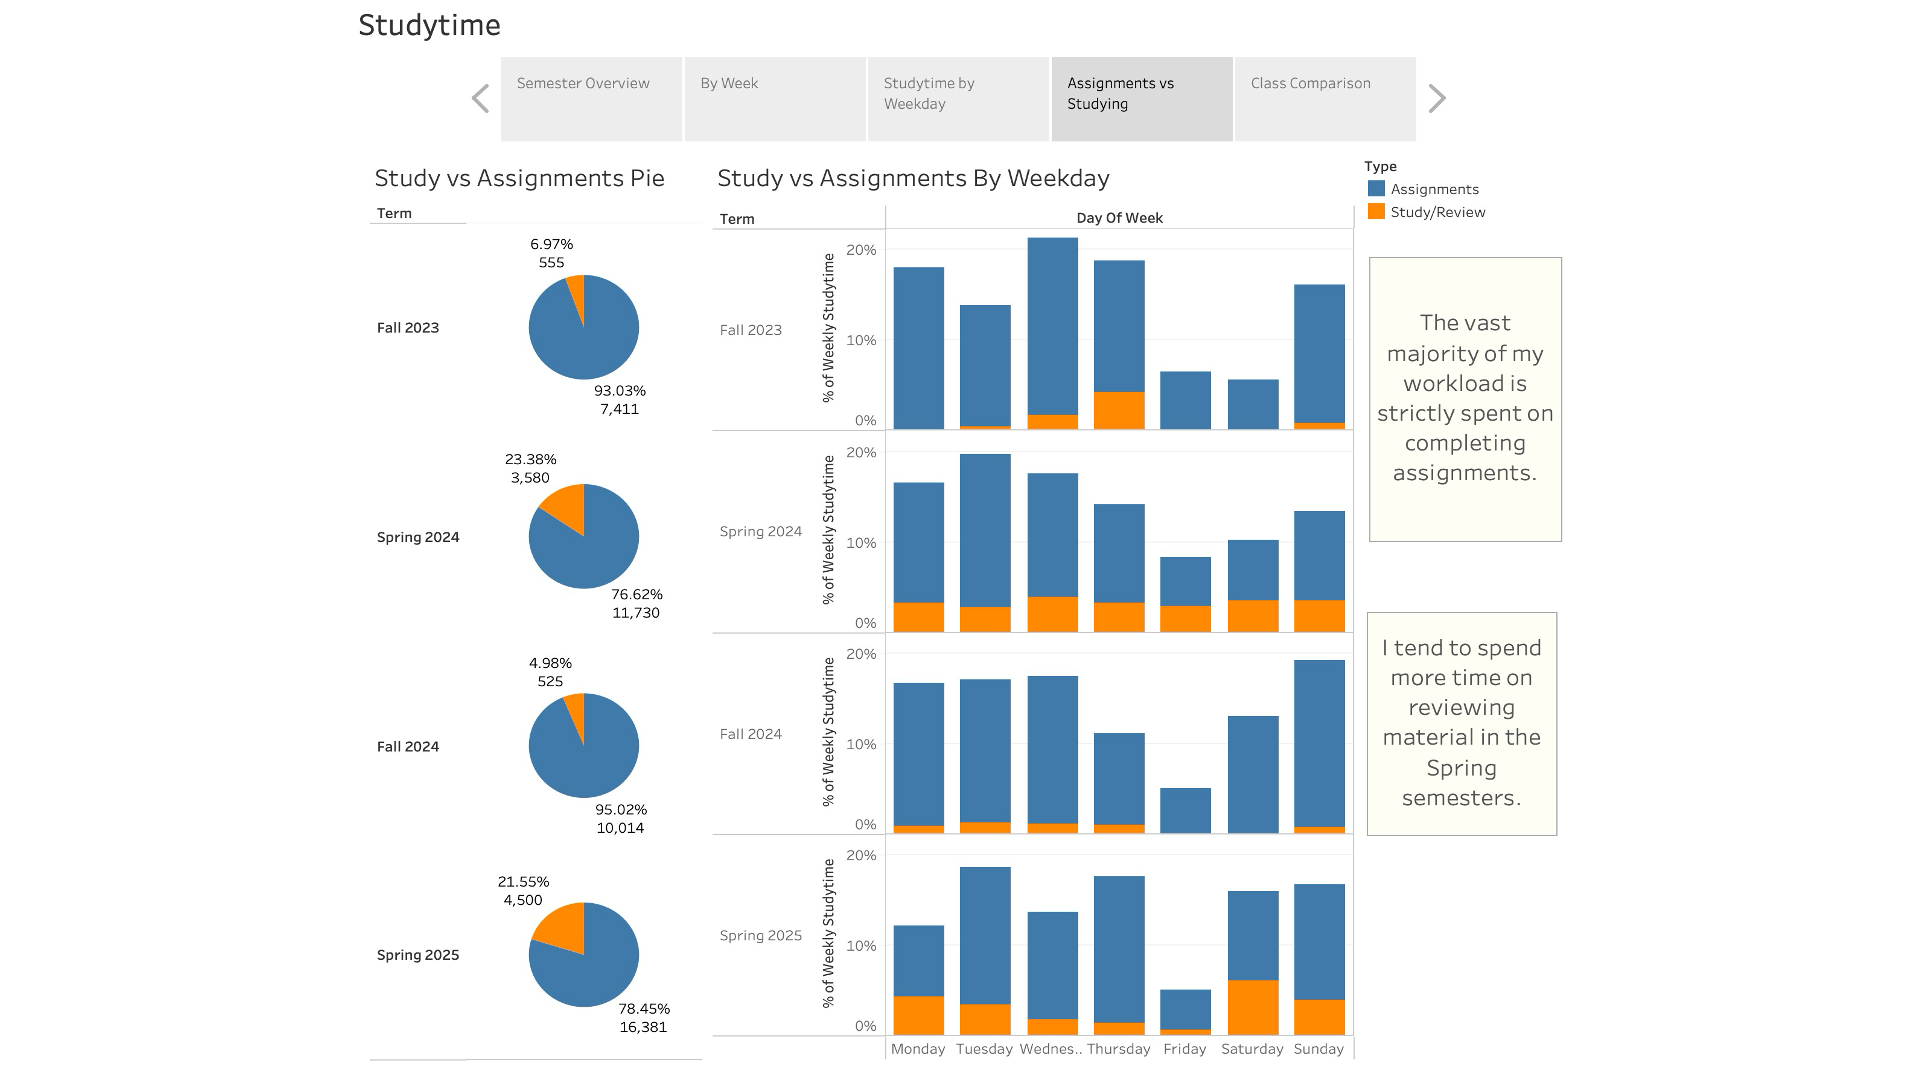

This screenshot's page, from the dashboard's own definition file:
{"tool":"tableau","page":{"name":"Study vs Assignments","canvas":[1000,1000],"units":"permille","ordinal":2},"visuals":[{"type":"worksheet","title":"Study vs Assignments Pie","mark":"Pie","rows":["term"],"box":[6.2,10.2,298.2,979.6]},{"type":"worksheet","title":"Study vs Assignments By Weekday","mark":"Automatic","rows":["term"],"cols":["day of week"],"box":[304.4,10.2,566.5,979.6]},{"type":"legend","title":"Study vs Assignments Pie","param":"[federated.0zza1qe03v407817gxwvd0b12inj].[none:type:nk]","box":[870.9,10.2,123,84.2]}]}

Visuals, with their boxes on the dashboard's canvas, which has no fixed pixel size, in thousandths of its width and height (x1, y1, x2, y2). These are canvas units, not pixel positions in the 1920x1080 screenshot, which may show the page scaled, cropped or inside an application window:
"Study vs Assignments Pie" worksheet (Pie marks): left=6, top=10, right=304, bottom=990
"Study vs Assignments By Weekday" worksheet: left=304, top=10, right=871, bottom=990
"Study vs Assignments Pie" legend: left=871, top=10, right=994, bottom=94
